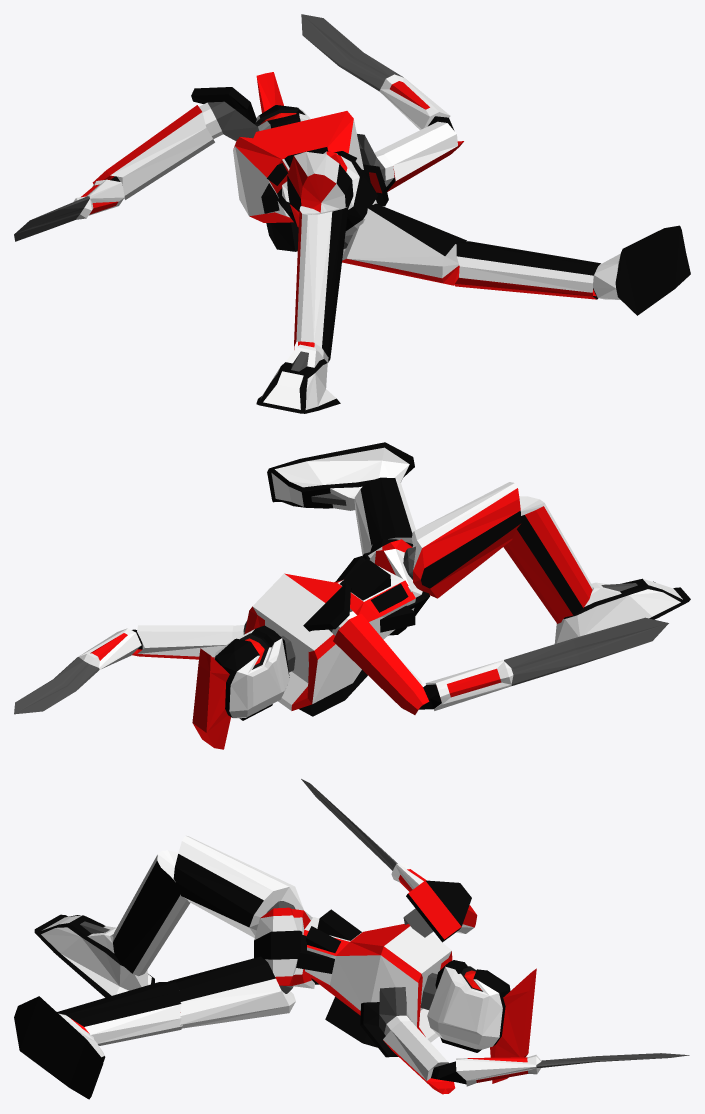
File: robots_000007.obj
The picture shows the model from 3 angles, top to bottom: view 1: azimuth 30°, elevation 25°; view 2: azimuth 150°, elevation 25°; view 3: azimuth 270°, elevation 25°; orthographic projection. The views are drawn at different scales.
Parts seen in each view (by area): view 1: Chest_plate_Cube.004, R_Forearm.002_Cube.033, R_Forearm.001_Cube.028, R_Shin_Cube.007, R_Thigh.002_Cube.027, R_Shin.002_Cube.029, R_Foot.002_Cube.035, R_Foot_Cube, R_Thigh_Cube.005, R_Arm.002_Cube.032, Pelvis_Cube.006, Head_gladiator_Cube.024 (+1 smaller); view 2: Chest_plate_Cube.004, R_Forearm.001_Cube.028, Head_gladiator_Cube.024, R_Thigh_Cube.005, R_Foot.002_Cube.035, R_Forearm.002_Cube.033, R_Shin_Cube.007, R_Foot_Cube, R_Shin.002_Cube.029, Pelvis_Cube.006, R_Arm.002_Cube.032; view 3: Chest_plate_Cube.004, Head_gladiator_Cube.024, R_Thigh_Cube.005, R_Thigh.002_Cube.027, R_Forearm.002_Cube.033, R_Foot.002_Cube.035, R_Shin_Cube.007, R_Shin.002_Cube.029, R_Foot_Cube, Pelvis_Cube.006, R_Arm.002_Cube.032, R_Arm.003_Cube.034 (+1 smaller).
Part boxes in pixels (x1,y1,x2,y2): Chest_plate_Cube.004: (233,111,370,251); R_Forearm.002_Cube.033: (301,14,463,191); R_Forearm.001_Cube.028: (14,105,214,241); R_Shin_Cube.007: (294,206,348,362); R_Thigh.002_Cube.027: (342,203,468,285); R_Shin.002_Cube.029: (454,241,600,299); R_Foot.002_Cube.035: (593,225,690,315); R_Foot_Cube: (256,344,340,413); R_Thigh_Cube.005: (287,151,353,227); R_Arm.002_Cube.032: (191,87,259,141); Pelvis_Cube.006: (275,151,377,235); Head_gladiator_Cube.024: (254,72,310,130); Chest_plate_Cube.004: (244,556,415,716); R_Forearm.001_Cube.028: (333,613,668,714); Head_gladiator_Cube.024: (192,625,289,749); R_Thigh_Cube.005: (411,482,521,598); R_Foot.002_Cube.035: (267,442,414,510); R_Forearm.002_Cube.033: (14,625,233,714); R_Shin_Cube.007: (503,496,592,623); R_Foot_Cube: (554,578,690,643); R_Shin.002_Cube.029: (354,477,415,555); Pelvis_Cube.006: (362,539,429,635); R_Arm.002_Cube.032: (303,583,356,635); Chest_plate_Cube.004: (296,909,452,1047); Head_gladiator_Cube.024: (427,960,536,1083); R_Thigh_Cube.005: (173,835,303,937); R_Thigh.002_Cube.027: (168,956,295,1028); R_Forearm.002_Cube.033: (383,1021,689,1094); R_Foot.002_Cube.035: (14,996,105,1099); R_Shin_Cube.007: (113,850,190,976); R_Shin.002_Cube.029: (57,982,182,1045); R_Foot_Cube: (34,914,154,997); Pelvis_Cube.006: (254,907,319,988); R_Arm.002_Cube.032: (403,880,471,942); R_Arm.003_Cube.034: (360,987,412,1057).
Size of the model in its own units: 3.29 by 1.15 by 3.89.
